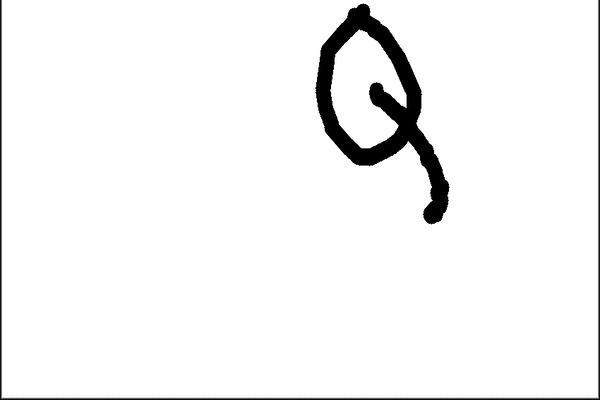Q: (292, 0, 456, 232)
